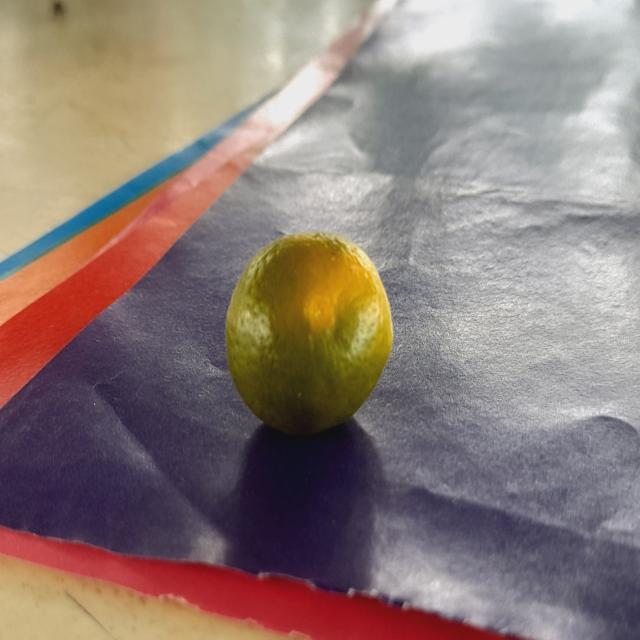greening: (208, 218, 426, 454)
